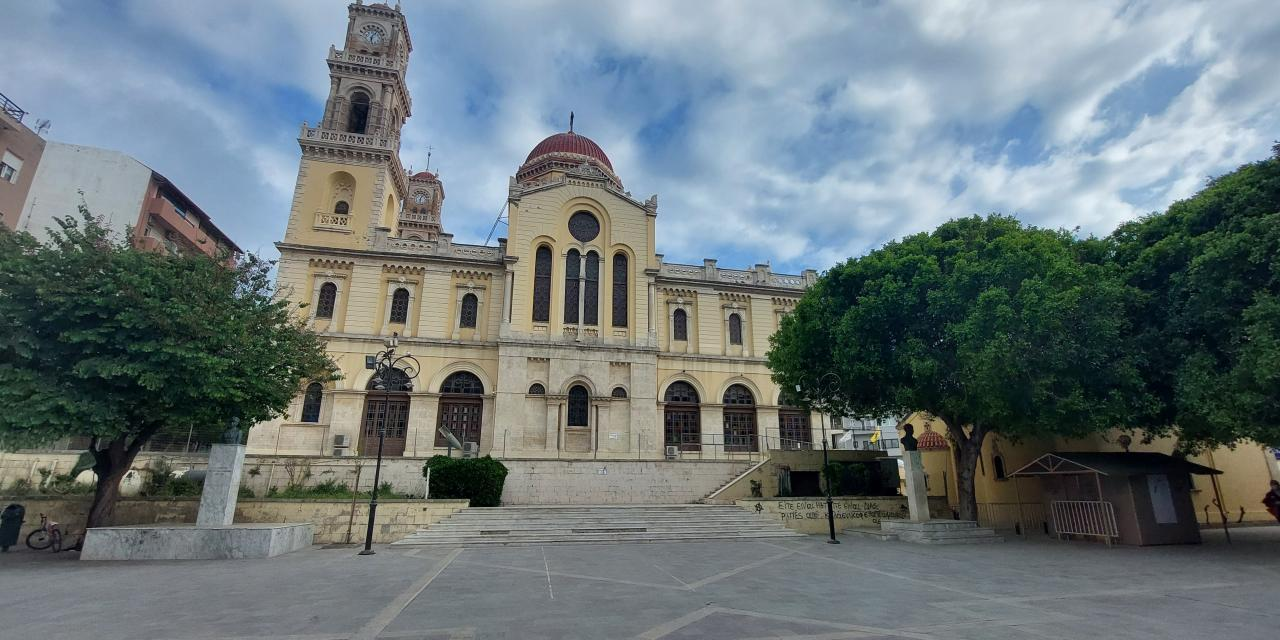Agios Minas: (230, 1, 841, 469)
